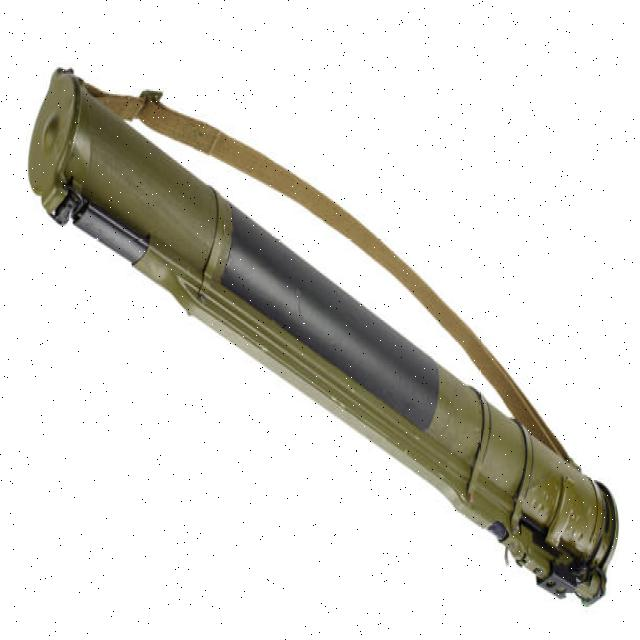bazooka: (25, 64, 623, 616)
